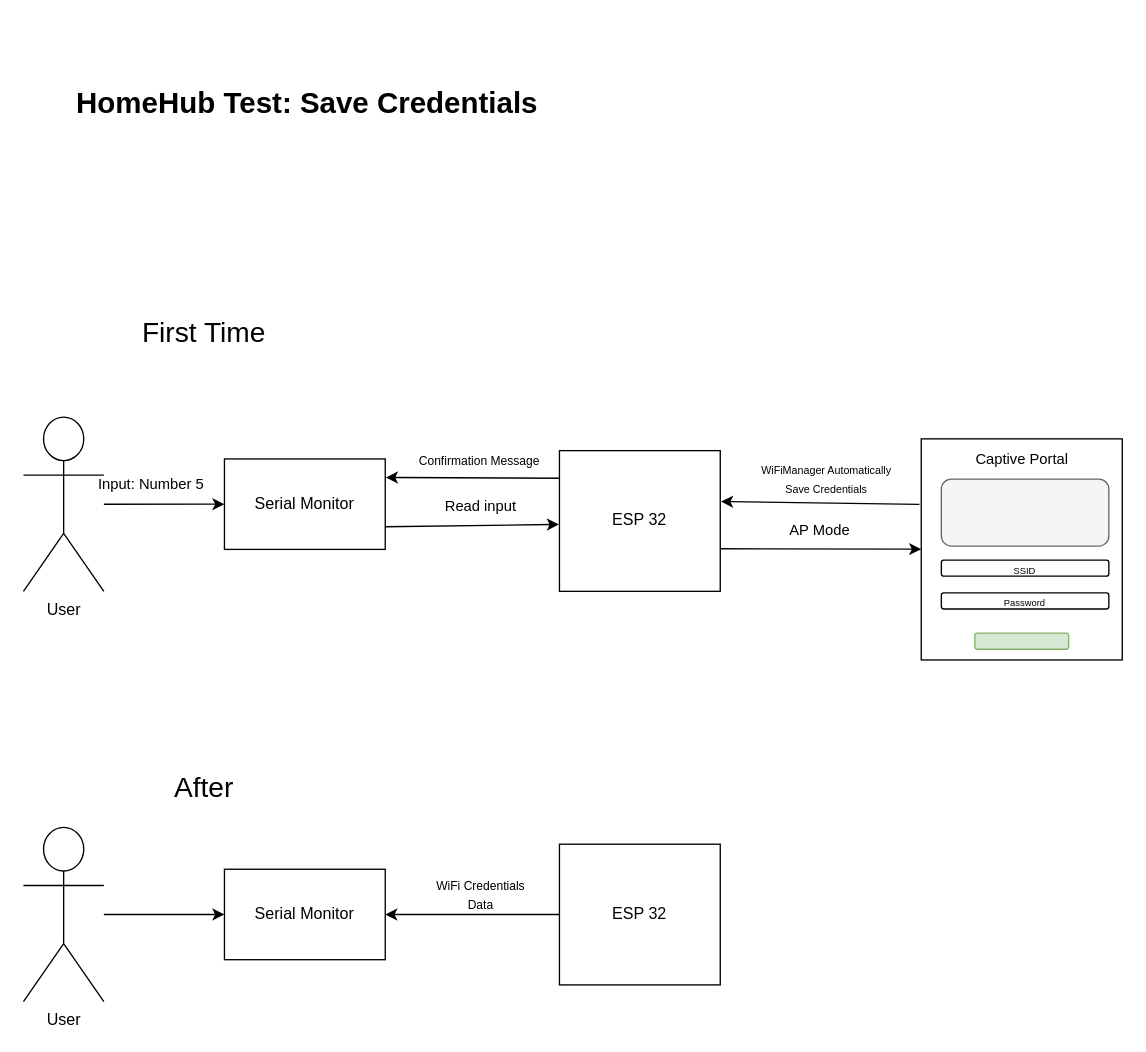
The diagram is 1146 pixels wide and 1052 high, and some of its shapes have lost their labels. The centre of each missing label's shape, as x and y in pixels:
"Save" belongs at (1021,640).
"WiFi Access Point List" belongs at (1024,512).
